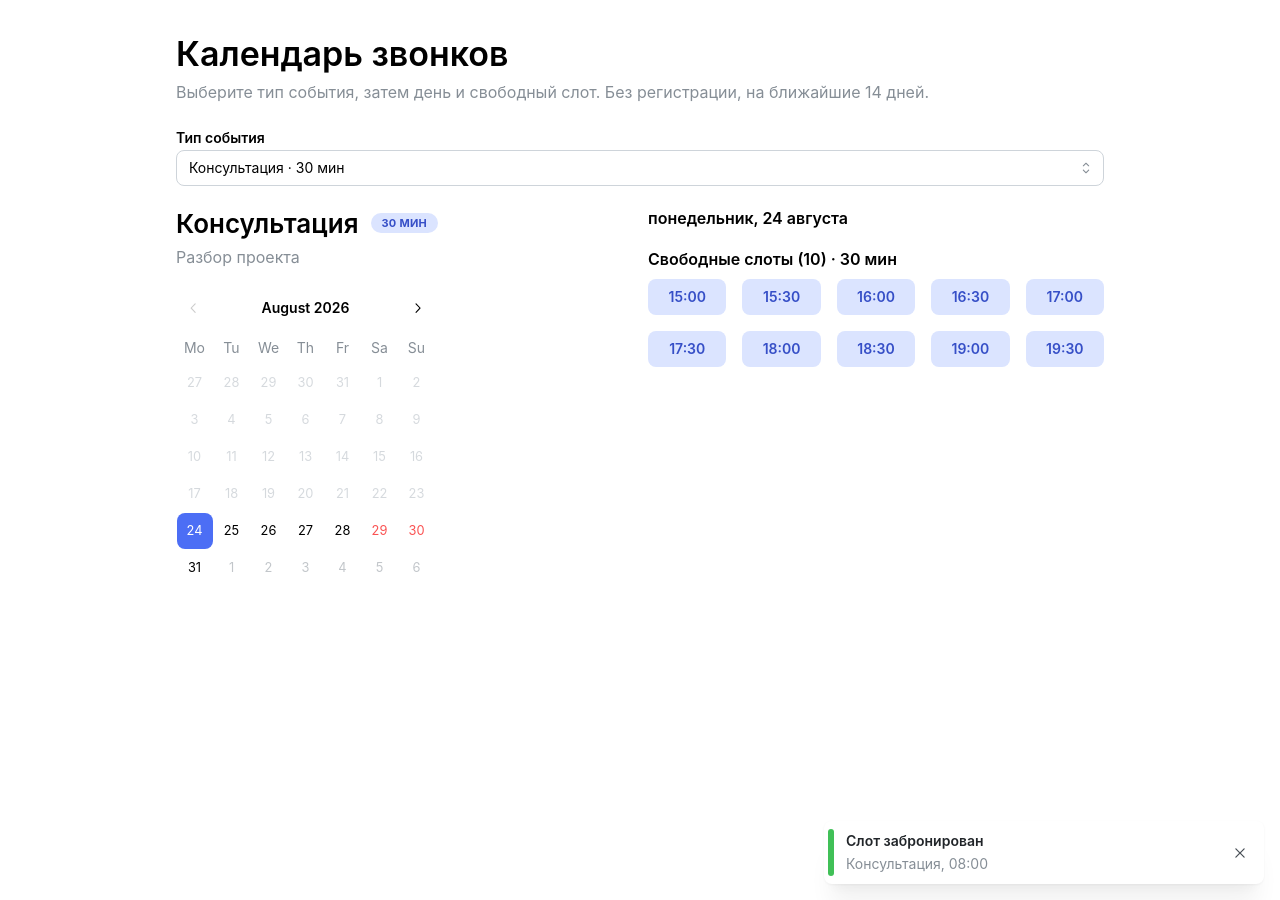
it: BookingPage (гость: тип события → календарь → слоты) › ошибка валидации 422 показывается под полем
Expected: the heading "Консультация" is shown, [176,206,358,241]
Click the button named "2026-08-25" at (232,531), box [214,513,250,549]
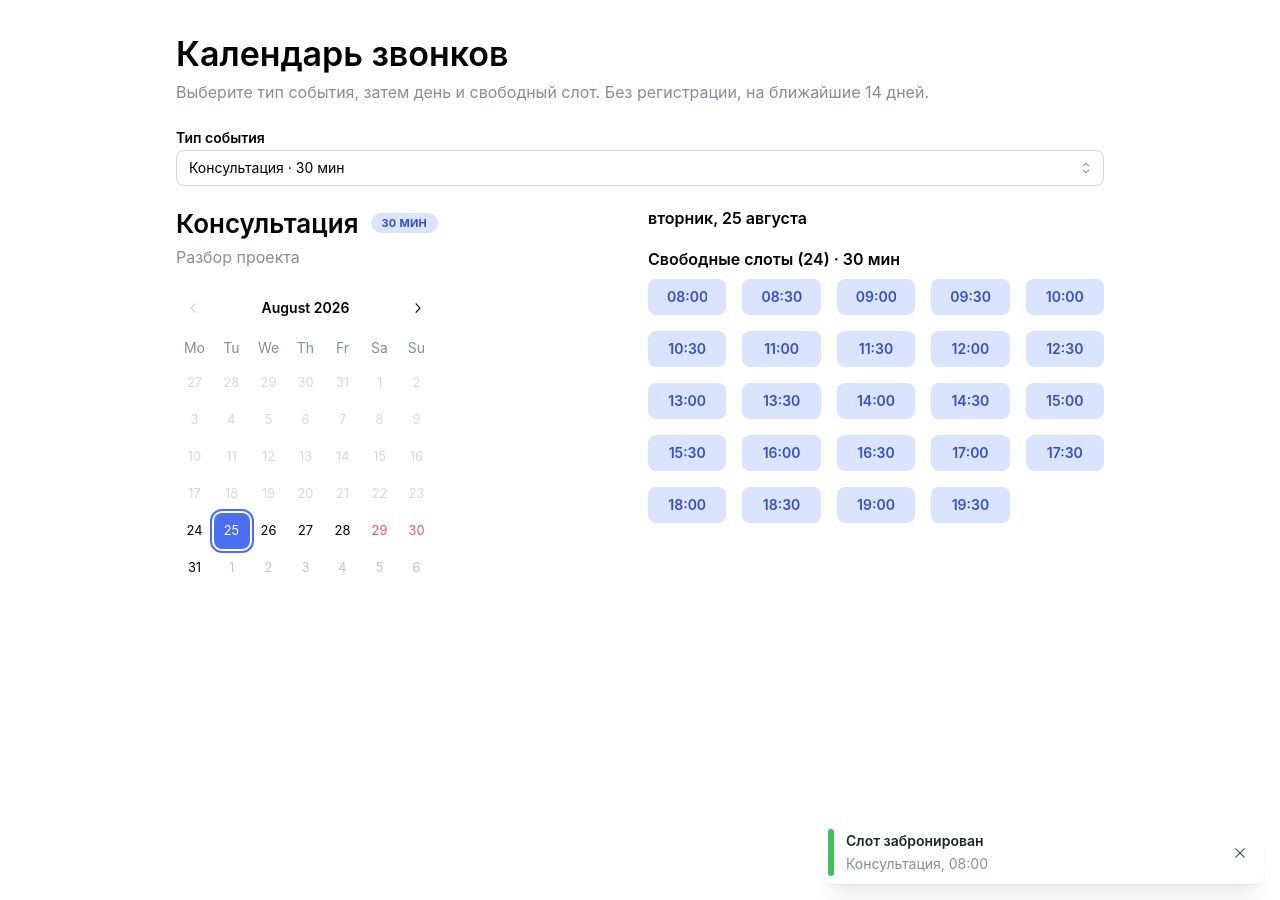
Expected: the text "Свободные слоты (24) · 30 мин" is shown, [648,249,900,269]
Click the button "08:00" at (687,297), box [648,279,726,315]
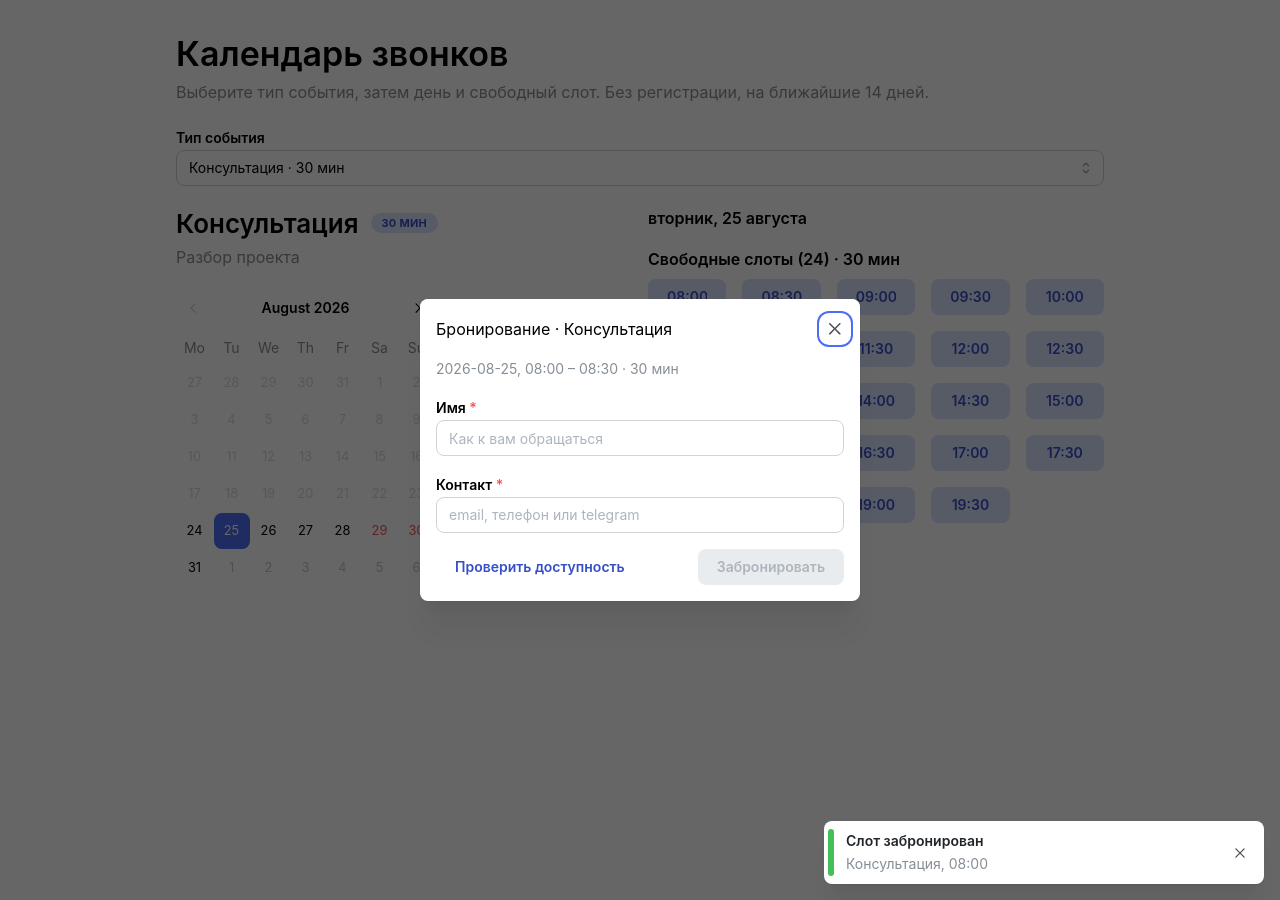
Now the field labelled "Имя *" is shown
Type "А" into the field labelled "Имя *" at (640,438), box [436,420,844,456]
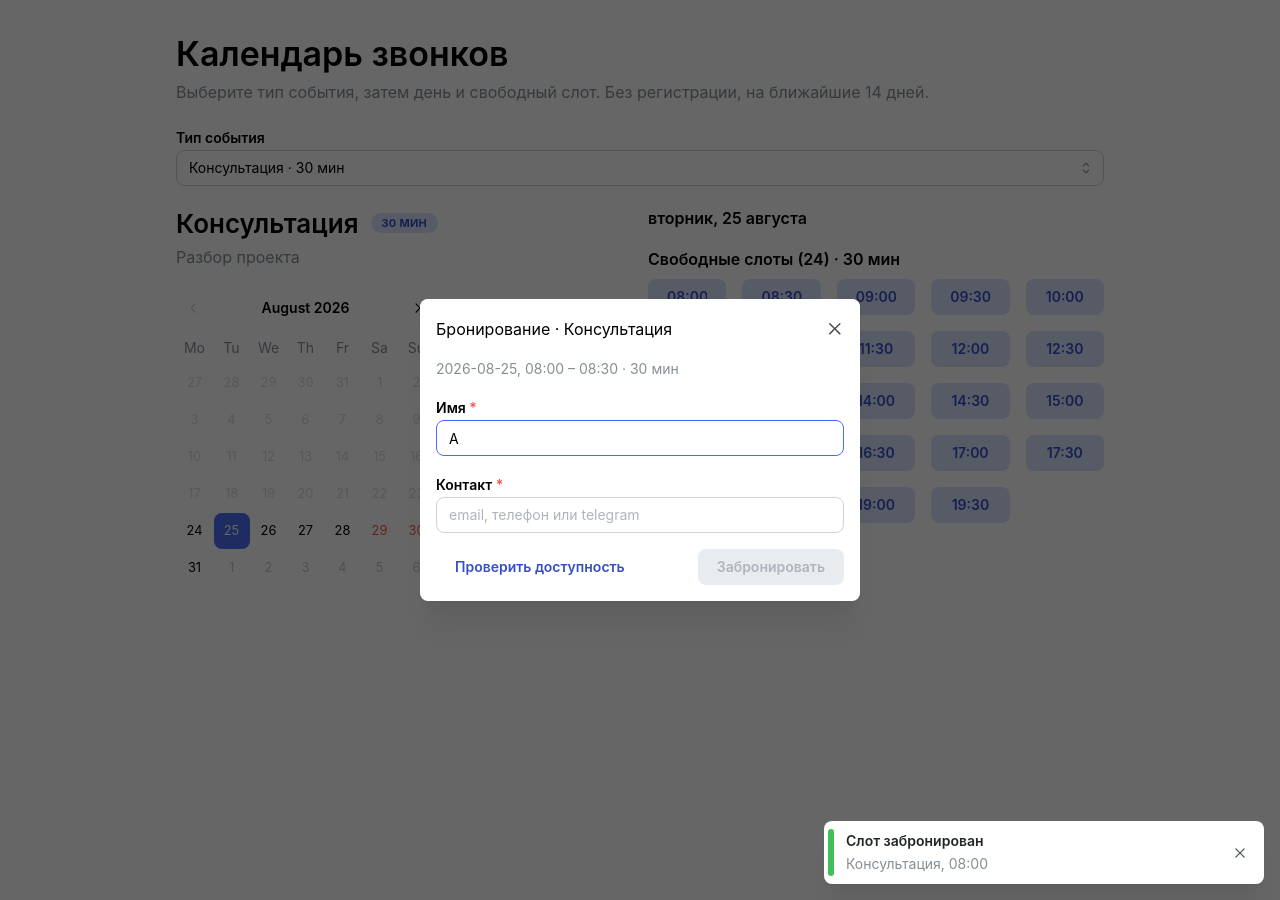
Type "ivan@example.com" into the field labelled "Контакт *" at (640,515), box [436,497,844,533]
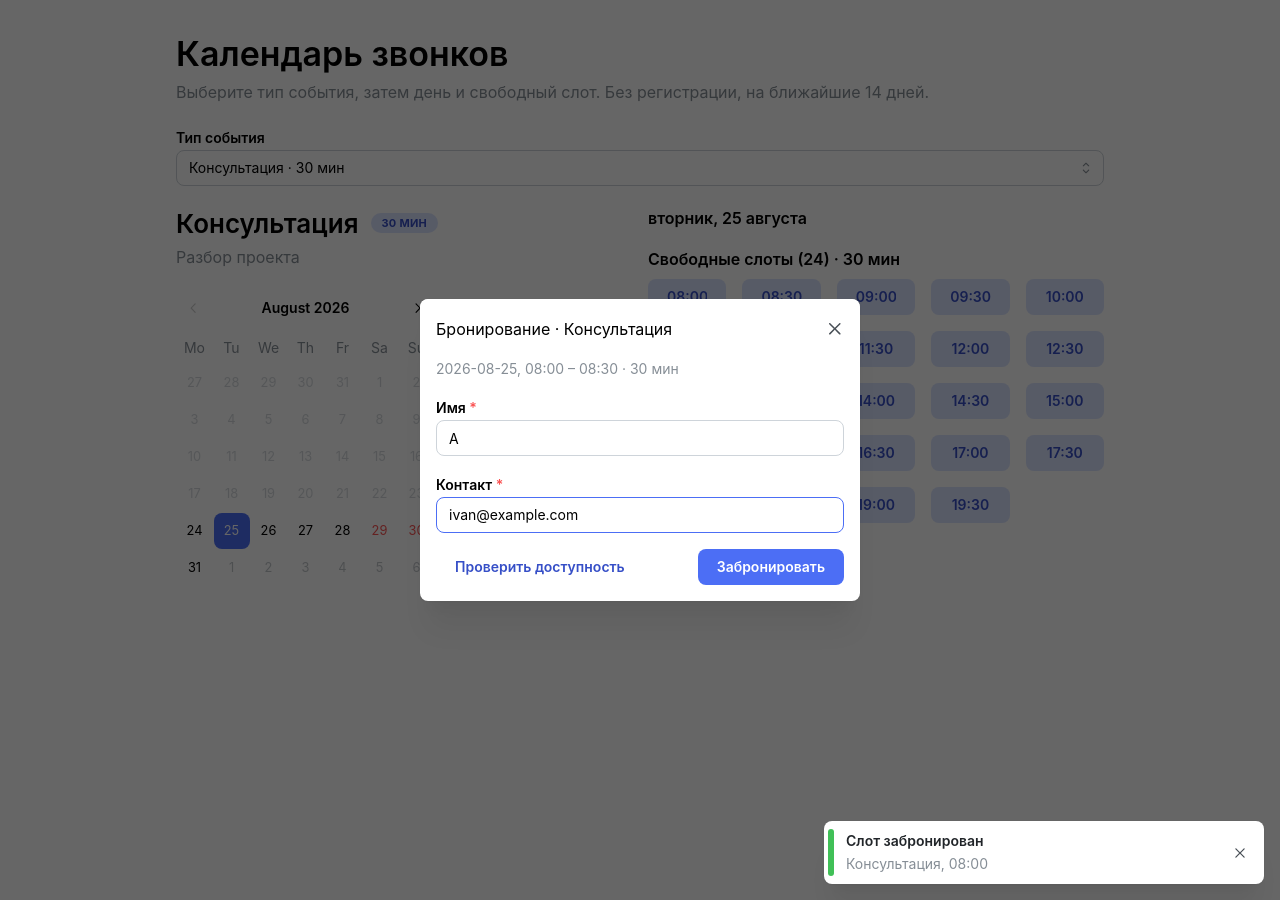
Click the button "Забронировать" at (771,567), box [698,549,844,585]
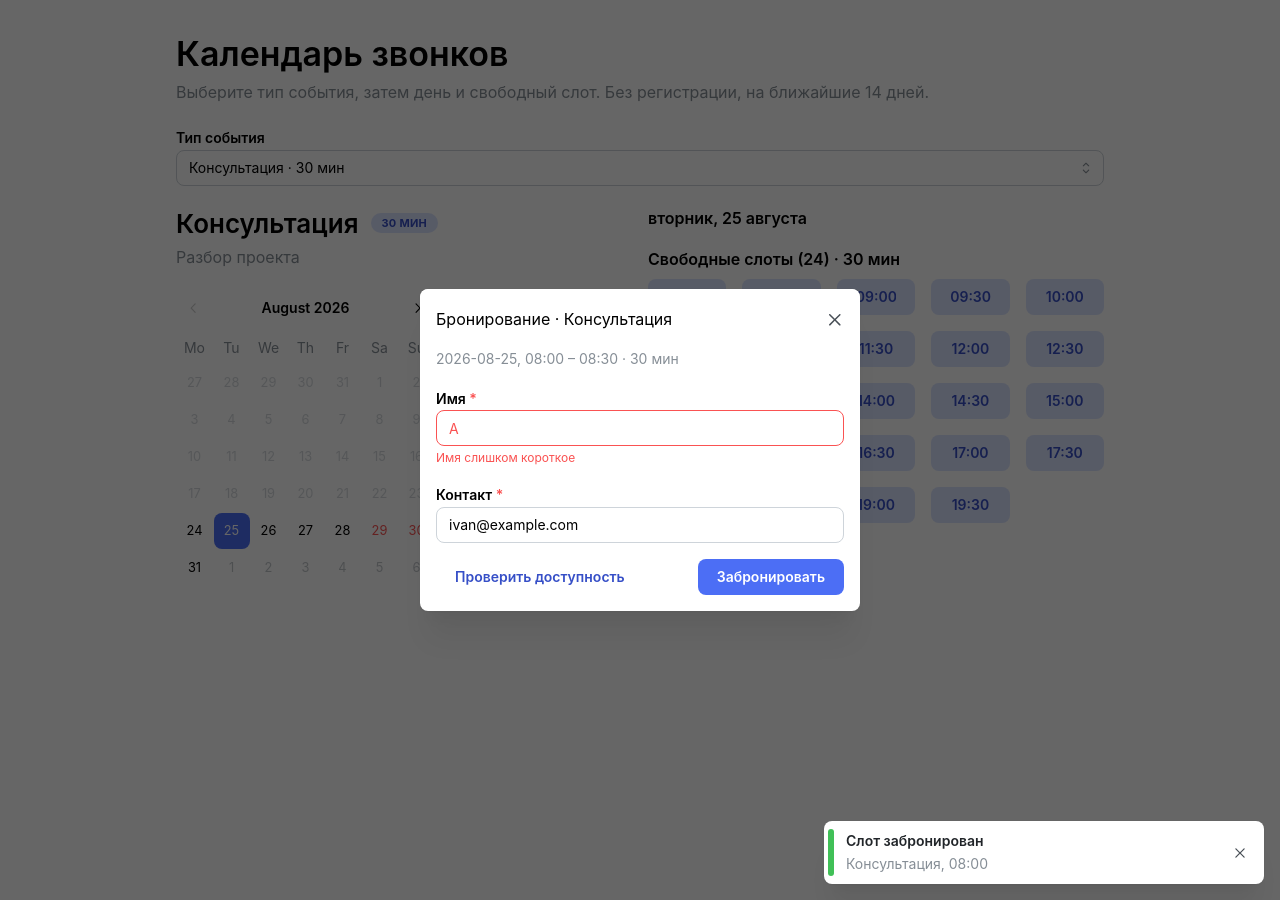
Now the text "Имя слишком короткое" is shown, box [436,450,575,466]
